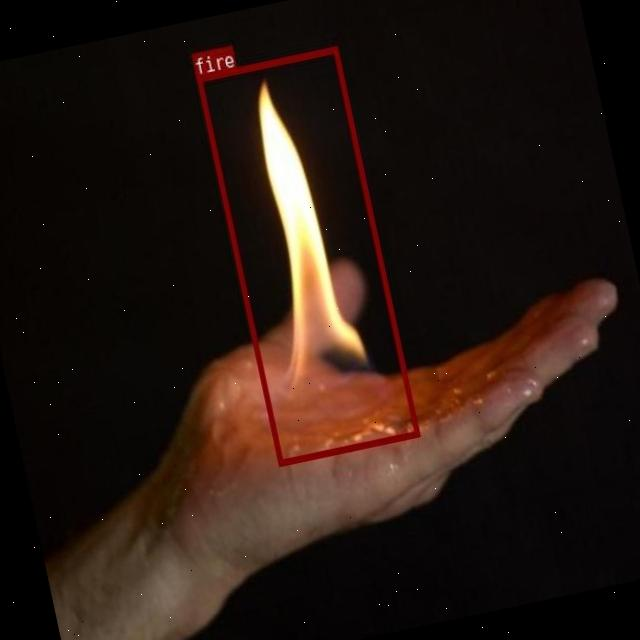fire: (194, 46, 420, 465)
